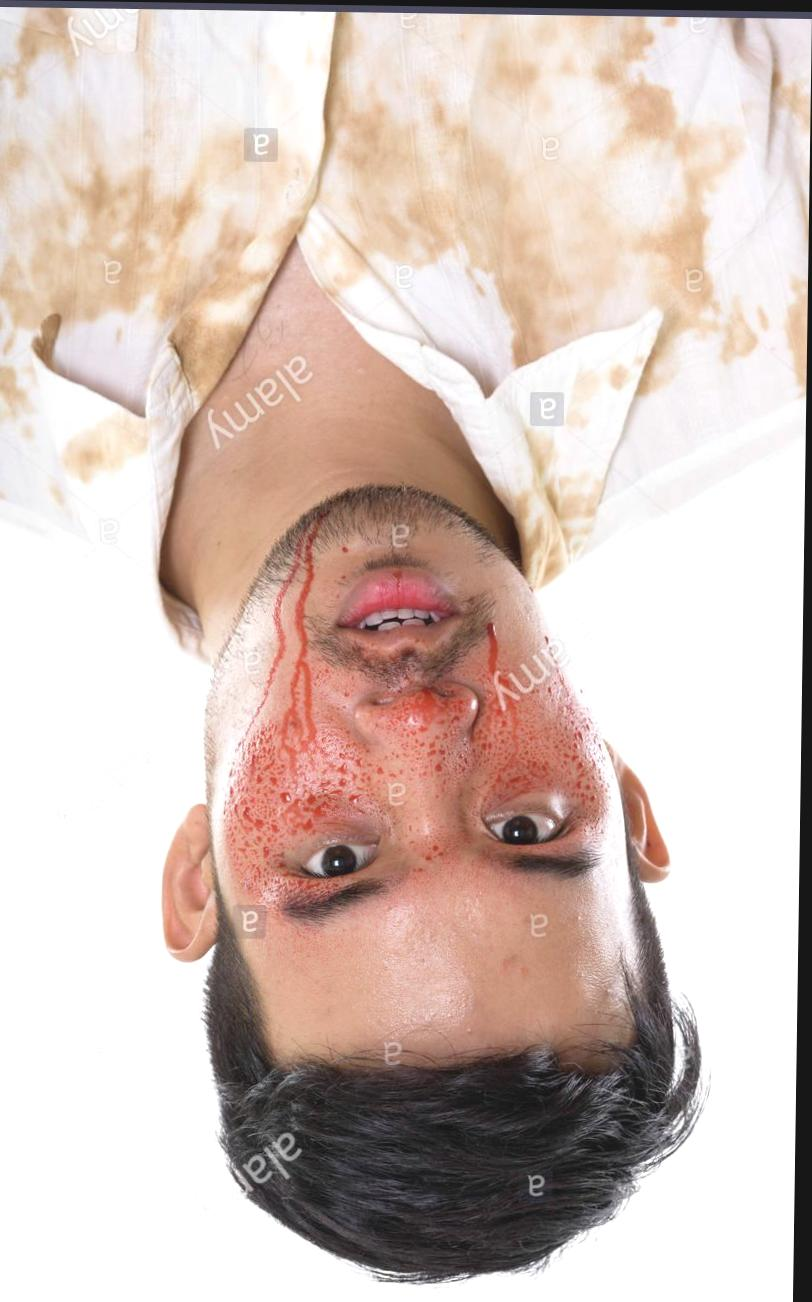Fire: (209, 532, 621, 913)
